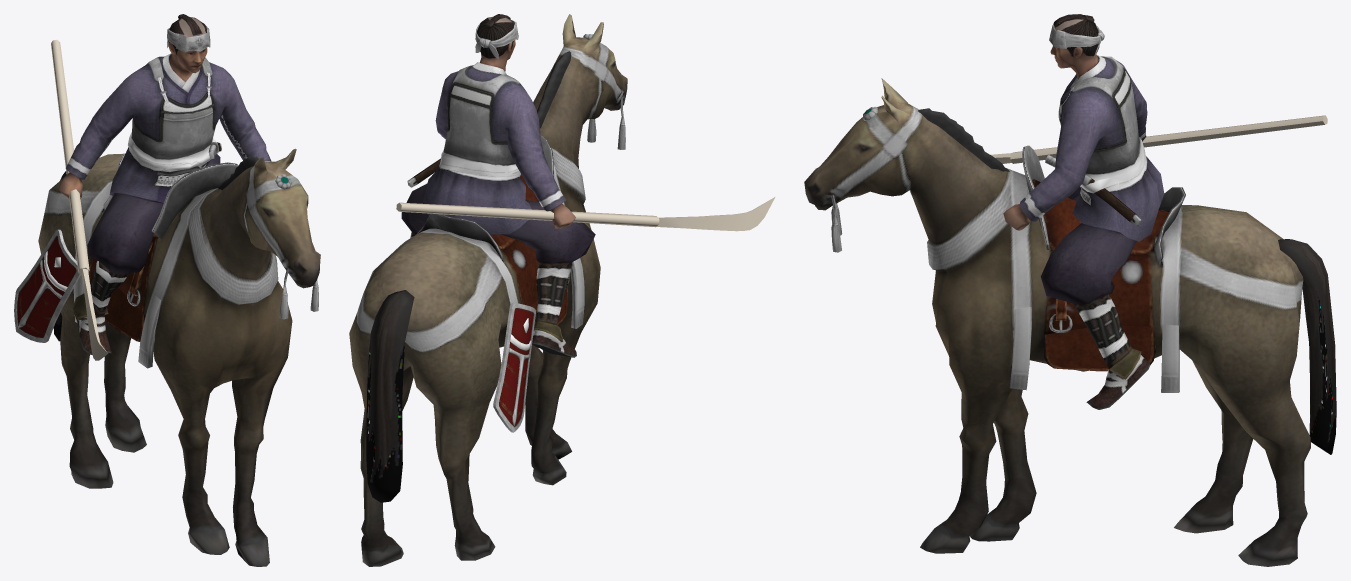
The model's file is 145-naginatarider.glb.
3 views of the same model, side by side, from view 1: azimuth 30°, elevation 25°; view 2: azimuth 150°, elevation 25°; view 3: azimuth 270°, elevation 25° (orthographic). The views are drawn at different scales.
Bounding box in the file's own units: 1.7 × 2.92 × 2.65.
5 materials, 4 textured.
